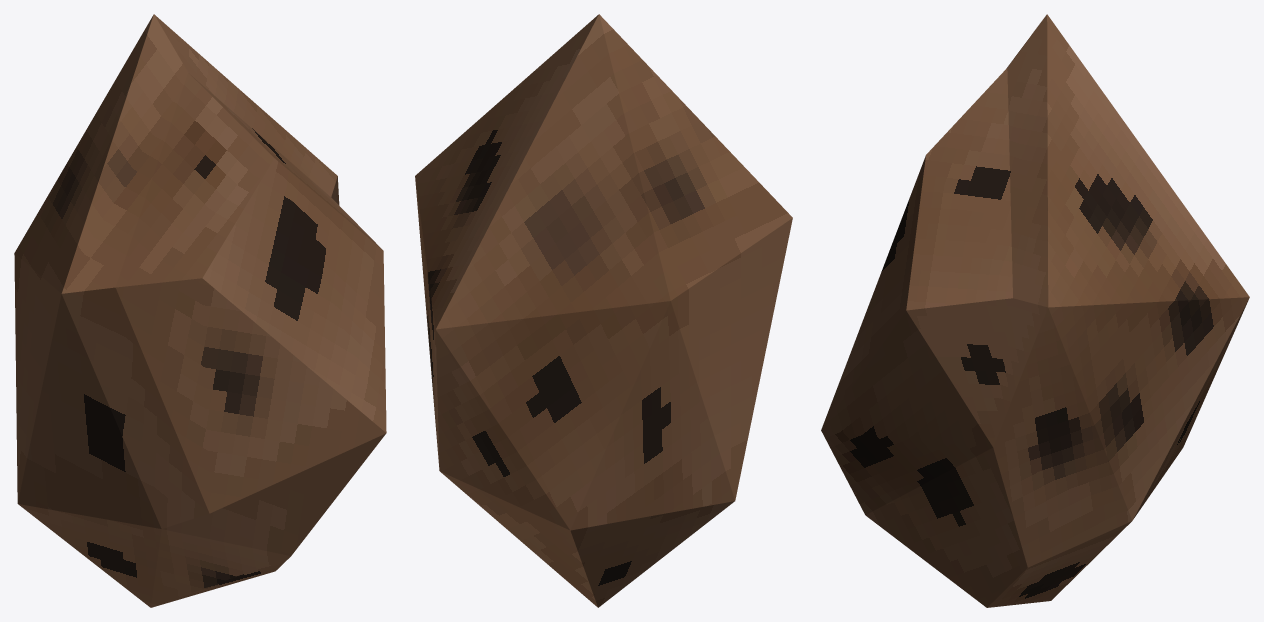
The model's file is Piedra 2.fbx.
3 renders of one model, left to right at view 1: azimuth 30°, elevation 25°; view 2: azimuth 150°, elevation 25°; view 3: azimuth 270°, elevation 25°, orthographic.
Visible parts, largest first — view 1: Icosphere; view 2: Icosphere; view 3: Icosphere.
Part boxes in pixels (box(x1,y1,x2,y2)): Icosphere: box(14, 14, 386, 607); Icosphere: box(415, 14, 792, 607); Icosphere: box(821, 14, 1249, 607).
Bounding box in the file's own units: 166 × 289 × 191.
1 material, 1 textured.
